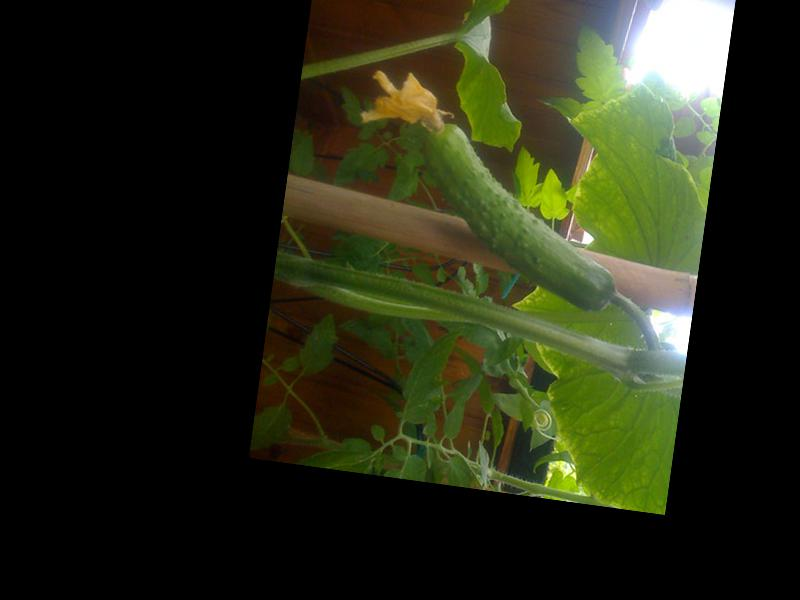Cucumber: (338, 64, 639, 312)
